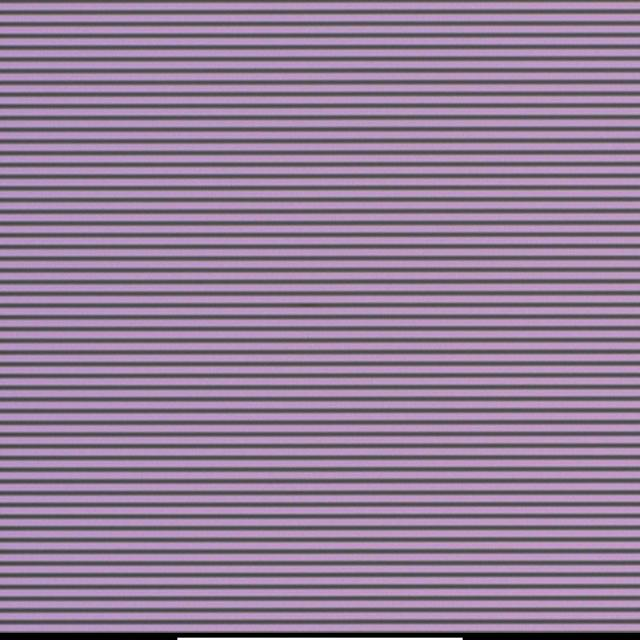03_intrusion: (327, 311, 337, 322)
